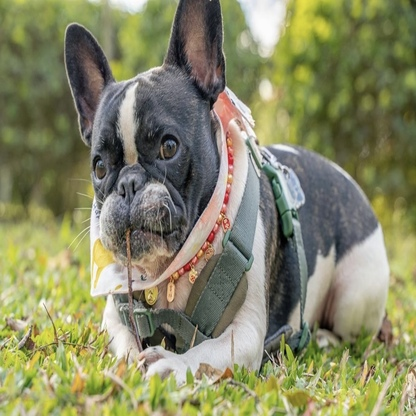bulldog: (60, 1, 393, 387)
